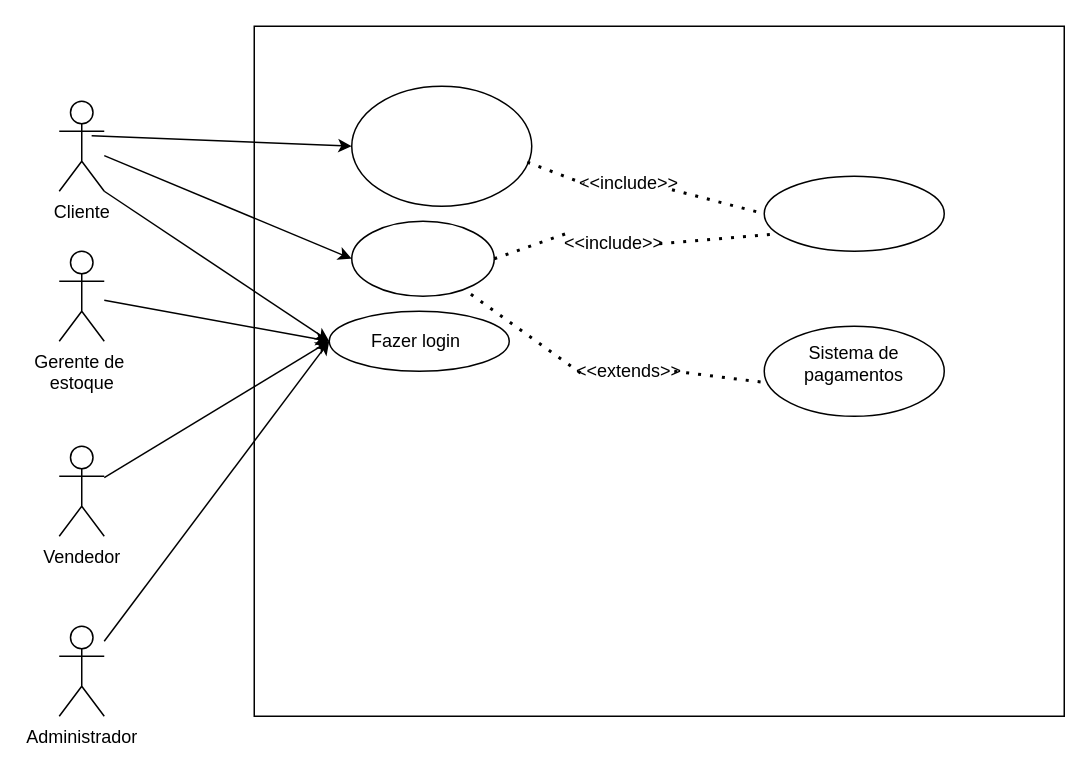
This 1091x774 diagram has some shape labels left out. The shapes that lost their labels are listed below. From the top down, each one's centre as x and y in pixels, then its label:
At (x=441, y=145): "Cadastro de clientes".
At (x=853, y=213): "Persistência no banco de dados".
At (x=422, y=258): "Compra".
